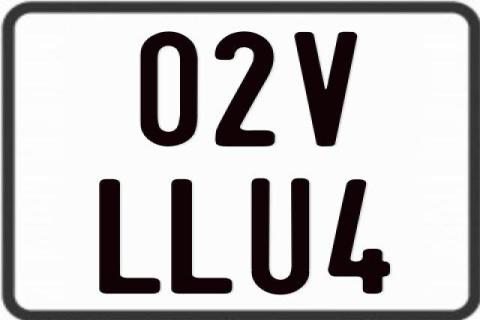0: (326, 177, 393, 291), (214, 30, 276, 146), (140, 29, 198, 145)
L: (97, 177, 162, 295), (168, 177, 229, 293)
U: (249, 176, 310, 295)
V: (294, 31, 357, 149)
